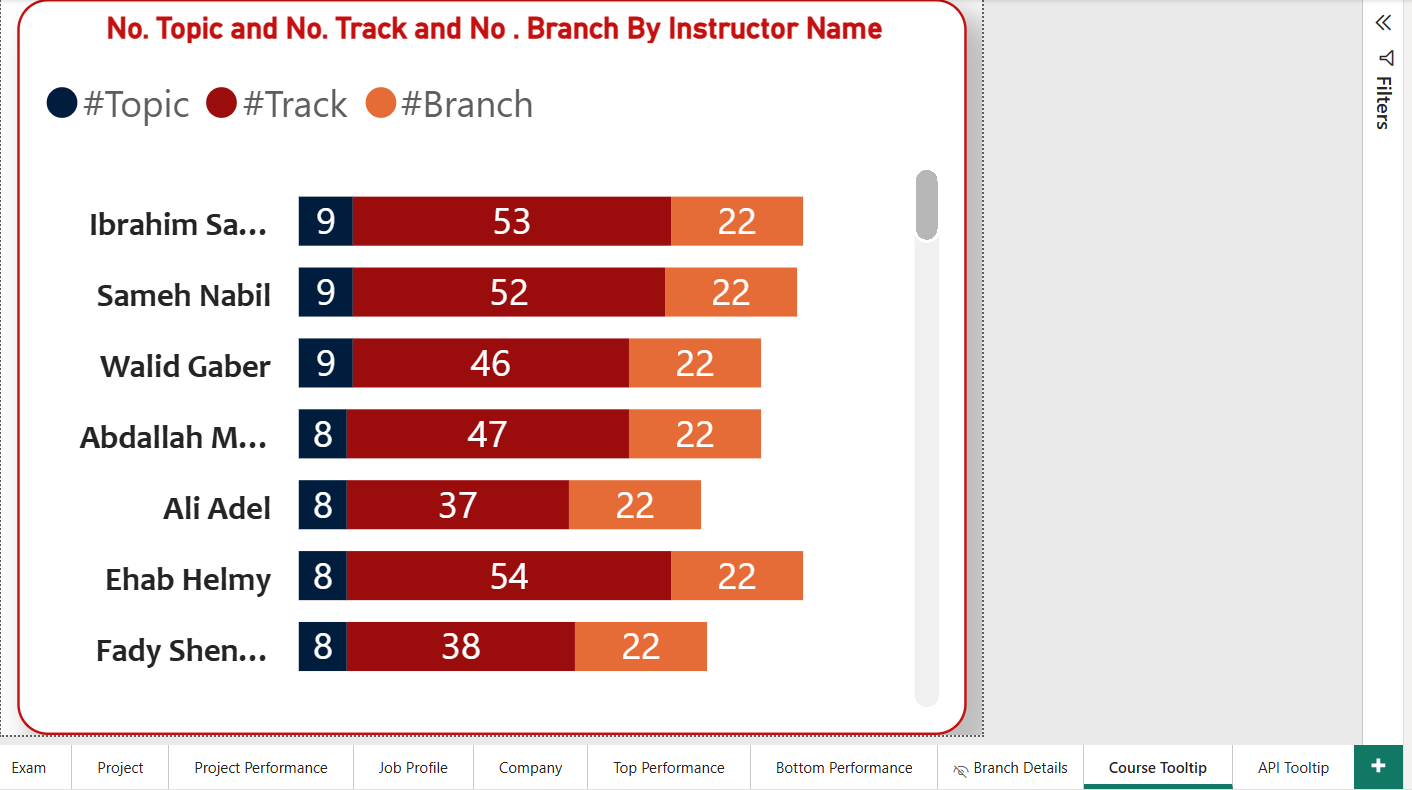

What the dashboard file says about the page in this screenshot:
{"tool":"powerbi","page":{"name":"Course Tooltip","canvas":[320,240],"ordinal":20},"visuals":[{"type":"barChart","title":"No. Topic and No. Track and No . Branch By Instructor Name","fields":{"Category":["Dim_Instructor.Instructor Name"],"Y":["Count(Fact_Student_Performance.topic_id)","Count(Fact_Student_Performance.track_id)","Count(Fact_Student_Performance.branch_id)"]},"box":[10.1,0,310.1,240.1],"z":0}]}

Visuals, with their boxes on the page's 320x240 design canvas (x1, y1, x2, y2). These are canvas units, not pixel positions in the 1412x790 screenshot, which may show the page scaled, cropped or inside an application window:
"No. Topic and No. Track and No . Branch By Instructor Name" barChart: l=10, t=0, r=320, b=240
